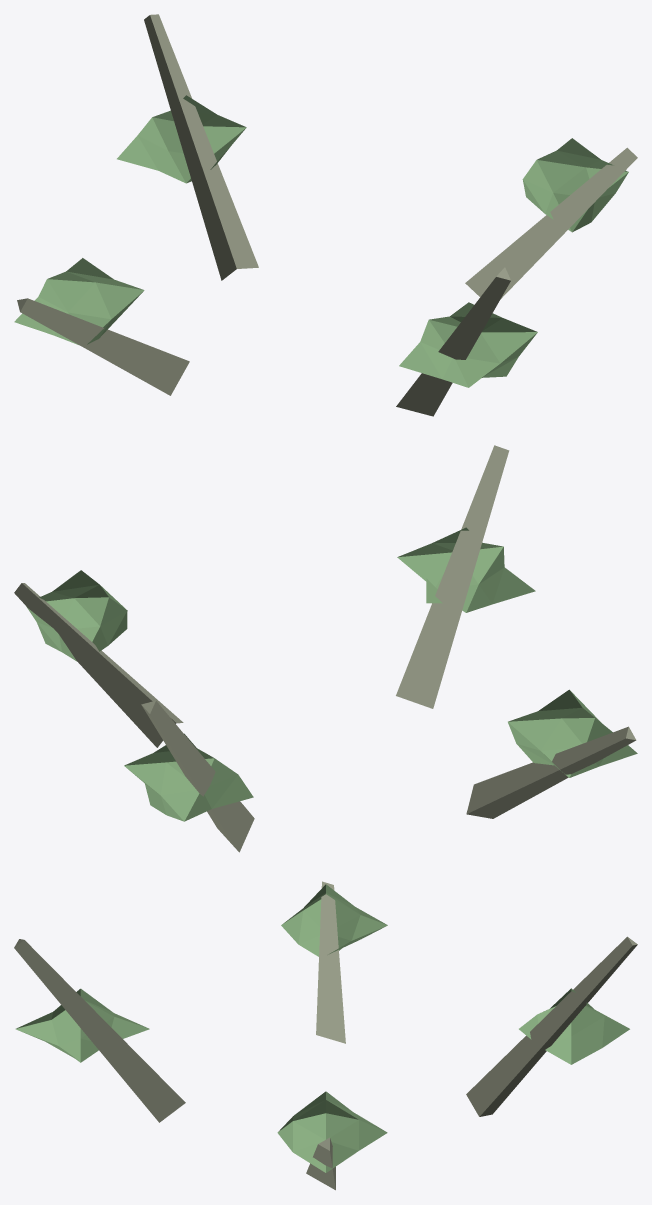
File: bramble_v45.glb
3 views of the same model, one above another, from view 1: azimuth 30°, elevation 25°; view 2: azimuth 150°, elevation 25°; view 3: azimuth 270°, elevation 25° (orthographic). The views are drawn at different scales.
Parts seen in each view (by area): view 1: lod0; view 2: lod0; view 3: lod0.
Part boxes in pixels (box(x1,y1,x2,y2)): lod0: box(14, 14, 637, 416); lod0: box(14, 445, 637, 852); lod0: box(14, 881, 637, 1190).
Size of what is drawn, in the model's own units: 0.7825 by 0.2535 by 0.7813.
